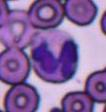N: (30, 30, 79, 82)
